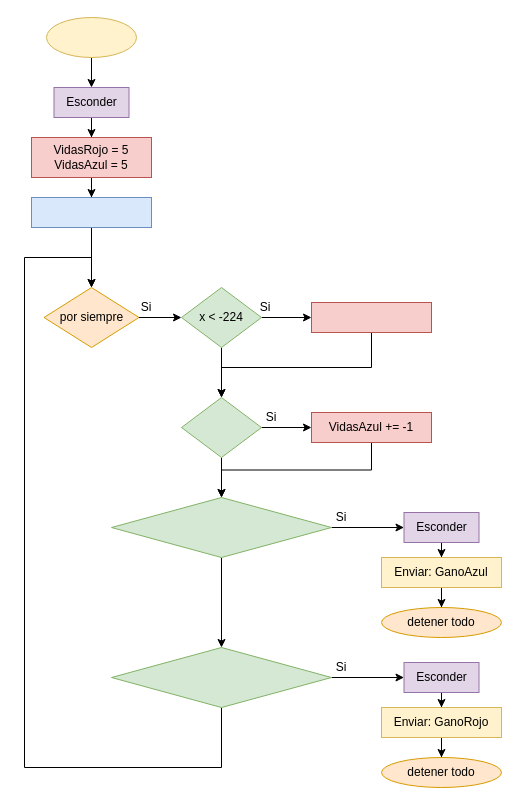
Some shapes in this 519 by 805 pixel diagram are drawn without their labels. The shapes that lost their labels are listed below. From the top down, each one's centre as x and y in pixels, then its label:
the point at 91,37: Bandera verde
the point at 91,212: coordenadas: x, y = 0
the point at 371,317: VidasRojo += -1
the point at 221,427: x > 224
the point at 221,527: VidasRojo = 0 || VidasRojo < 0
the point at 221,677: VidasAzul = 0 || VidasAzul < 0
